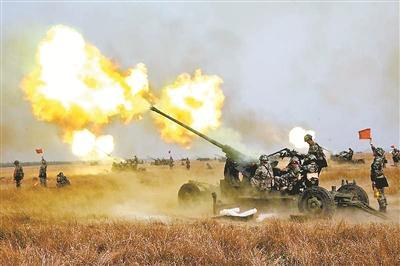MIL_SPG: (151, 107, 368, 214)
